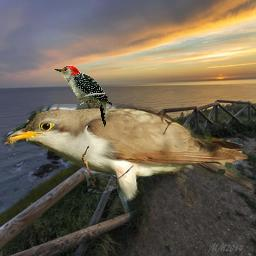Cuckoo: (2, 104, 252, 223)
Woodpecker: (54, 65, 112, 127)
